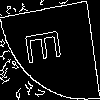E: (25, 25, 69, 66)
